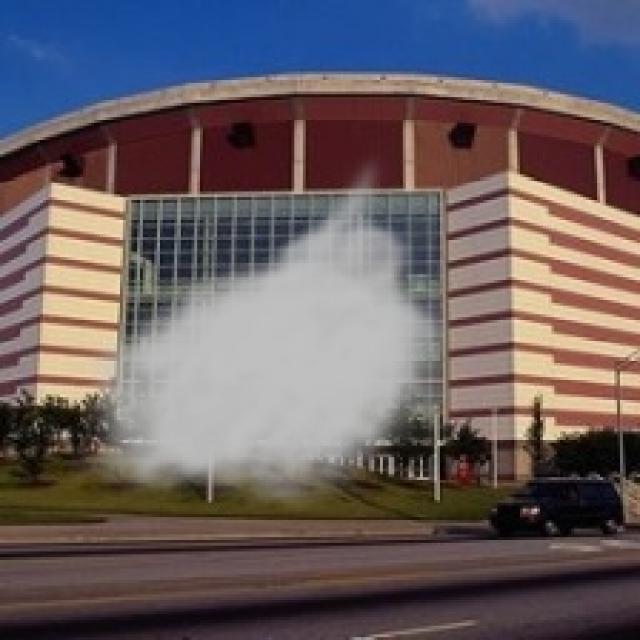Smoke: (66, 152, 460, 512)
